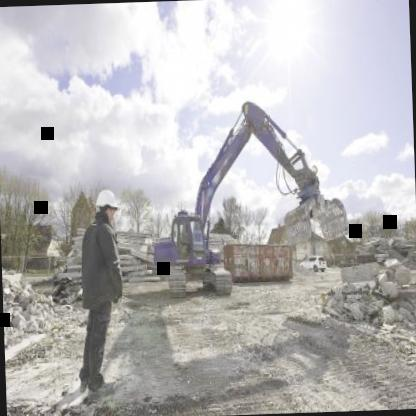helmet: (96, 187, 121, 225)
